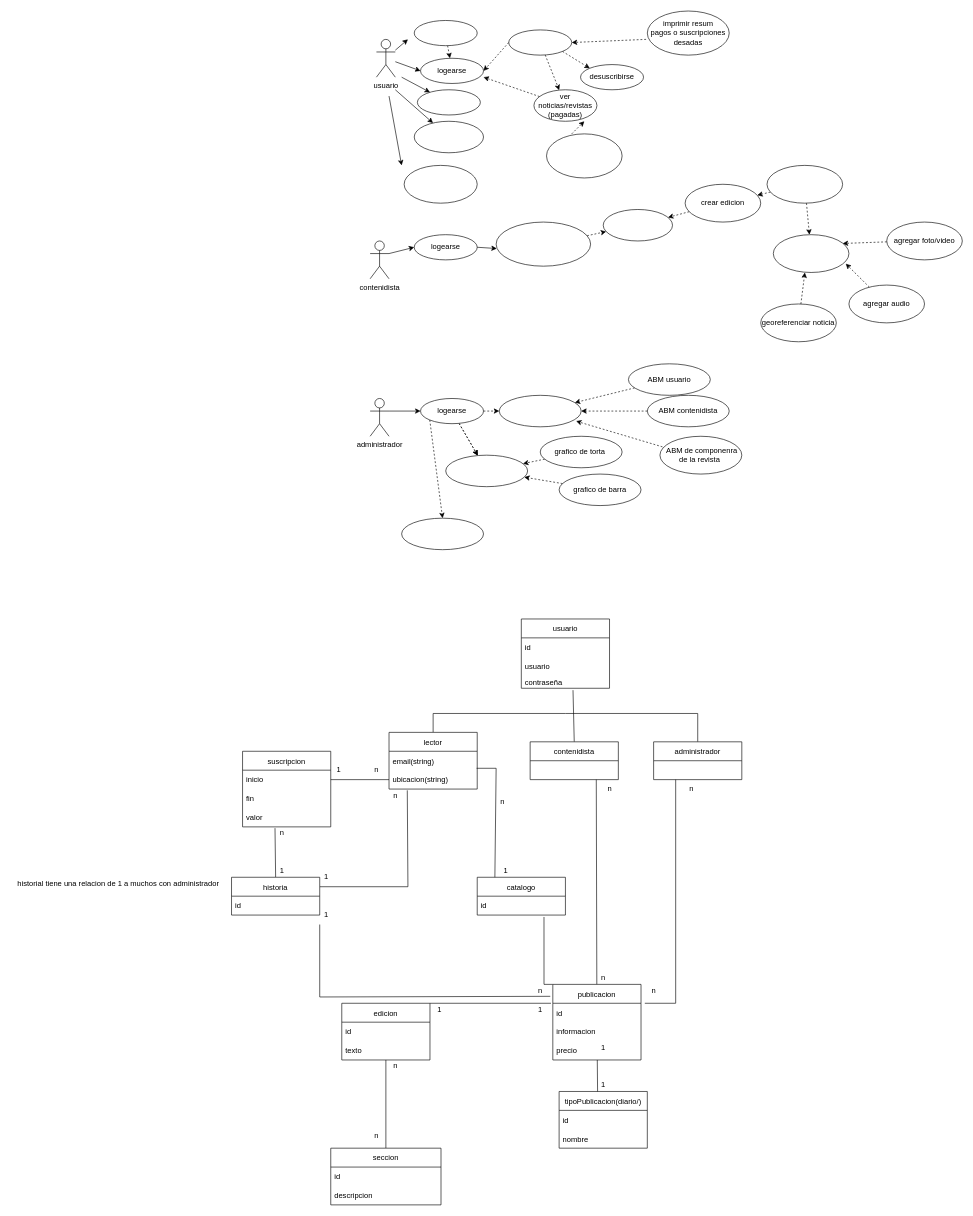
Some shapes in this 973 by 1216 pixel diagram are drawn without their labels. Here are the shapes that lost their labels. From the top down, the centre of each, then its label:
At point (445, 33): "registrarse".
At point (540, 42): "suscribirse".
At point (448, 102): "ver cata.Productos".
At point (449, 137): "ver pronostico".
At point (584, 155): "localizar lugar geografico dependiendo de la noticia".
At point (440, 184): "pagar producto mensual o por producto".
At point (804, 184): "crear seccion".
At point (543, 243): "gestionar diario o revistas (abm)".
At point (638, 225): "crear publicacion".
At point (811, 253): "crear articulo".
At point (540, 411): "gestionar ABM".
At point (486, 471): "generar grafico".
At point (442, 534): "generar lista descargable pdf".
